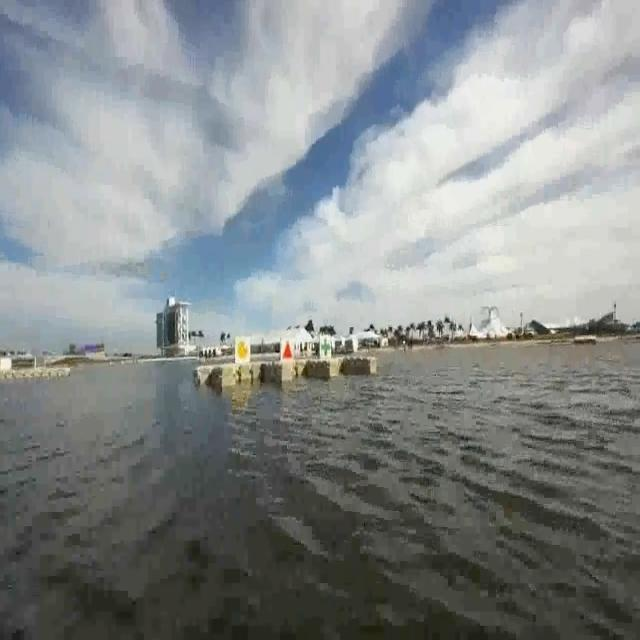blue-cross: (321, 330, 333, 364)
red-dot: (281, 333, 294, 360)
yellow-duck: (238, 336, 250, 363)
